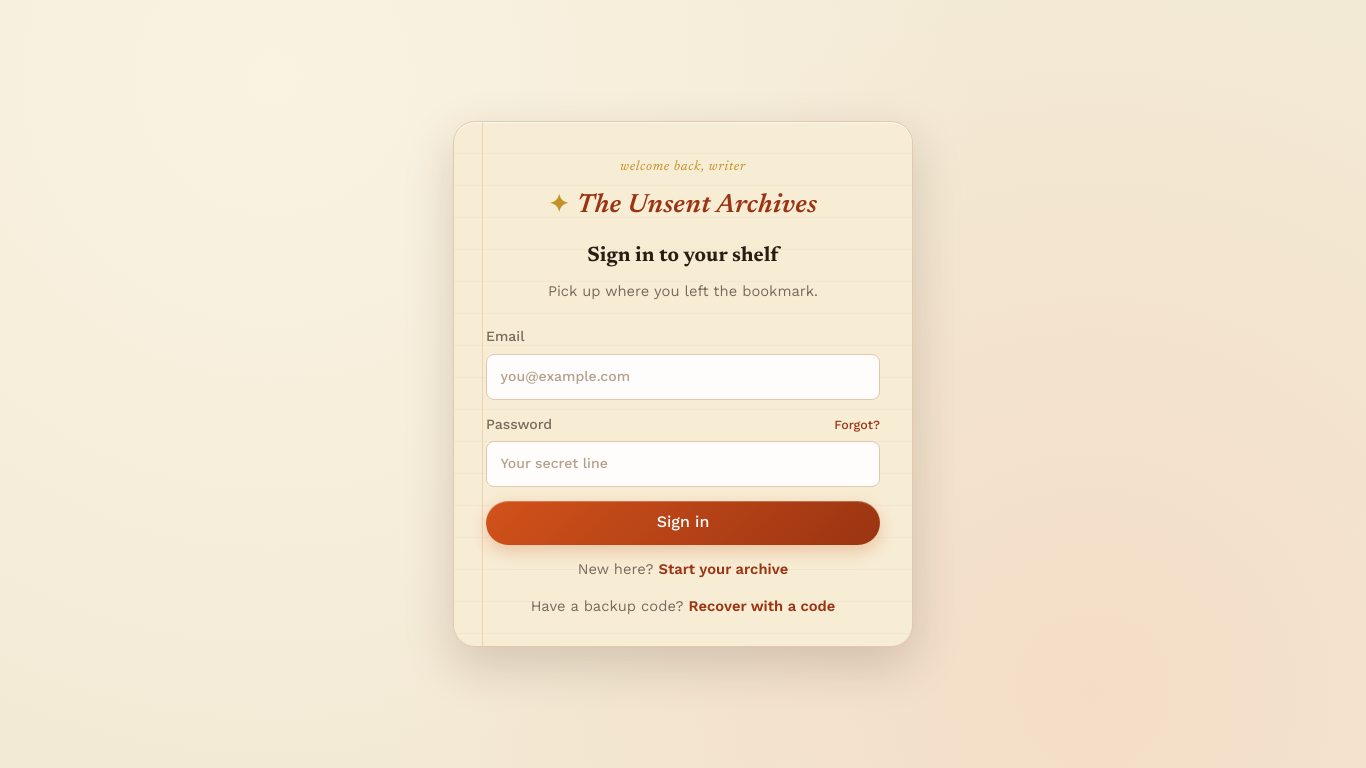
Test: Login page › falls back to a generic error when an HTTP failure carries no message
Type "me@example.com" into the field with placeholder "you@example.com" at point(683, 377), box x1=486 y1=354 x2=880 y2=400
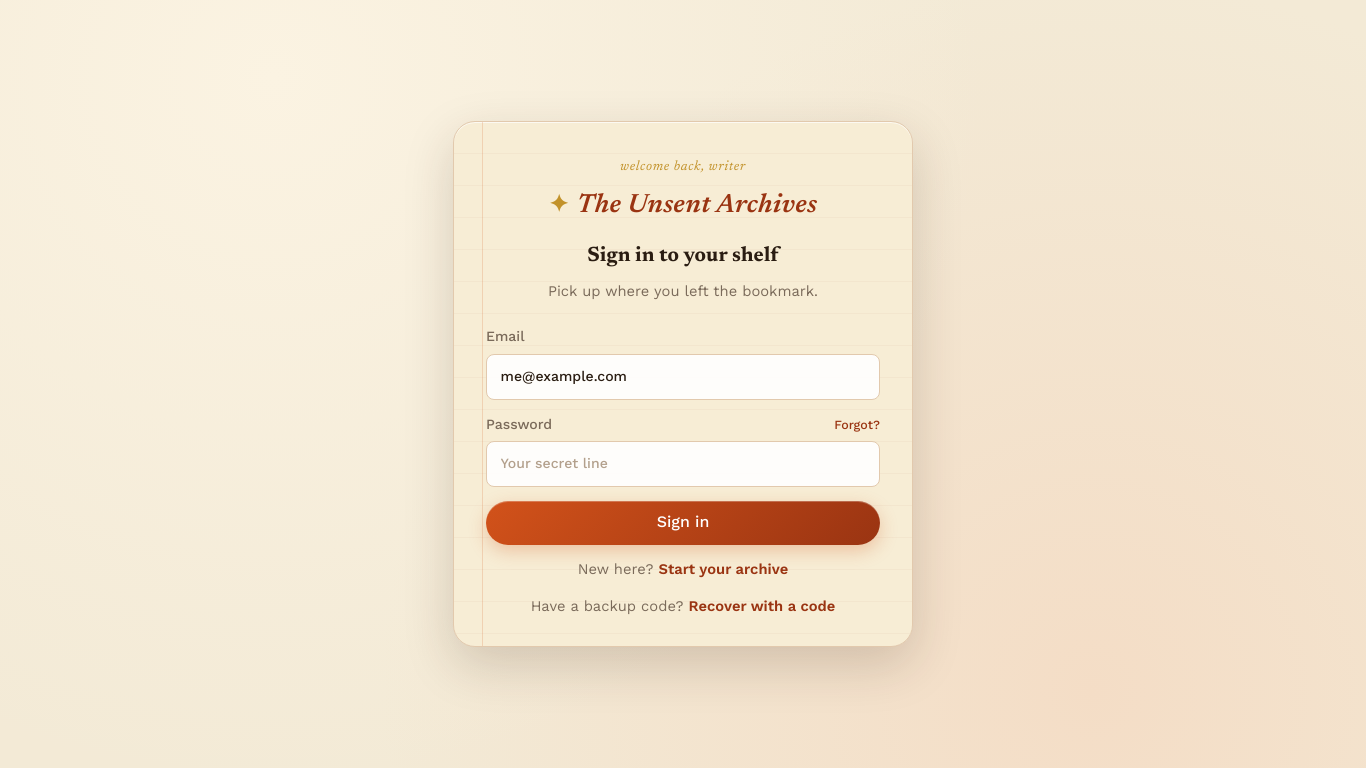
Type "hunter22" into the password field with placeholder "Your secret line" at point(683, 464), box x1=486 y1=441 x2=880 y2=487
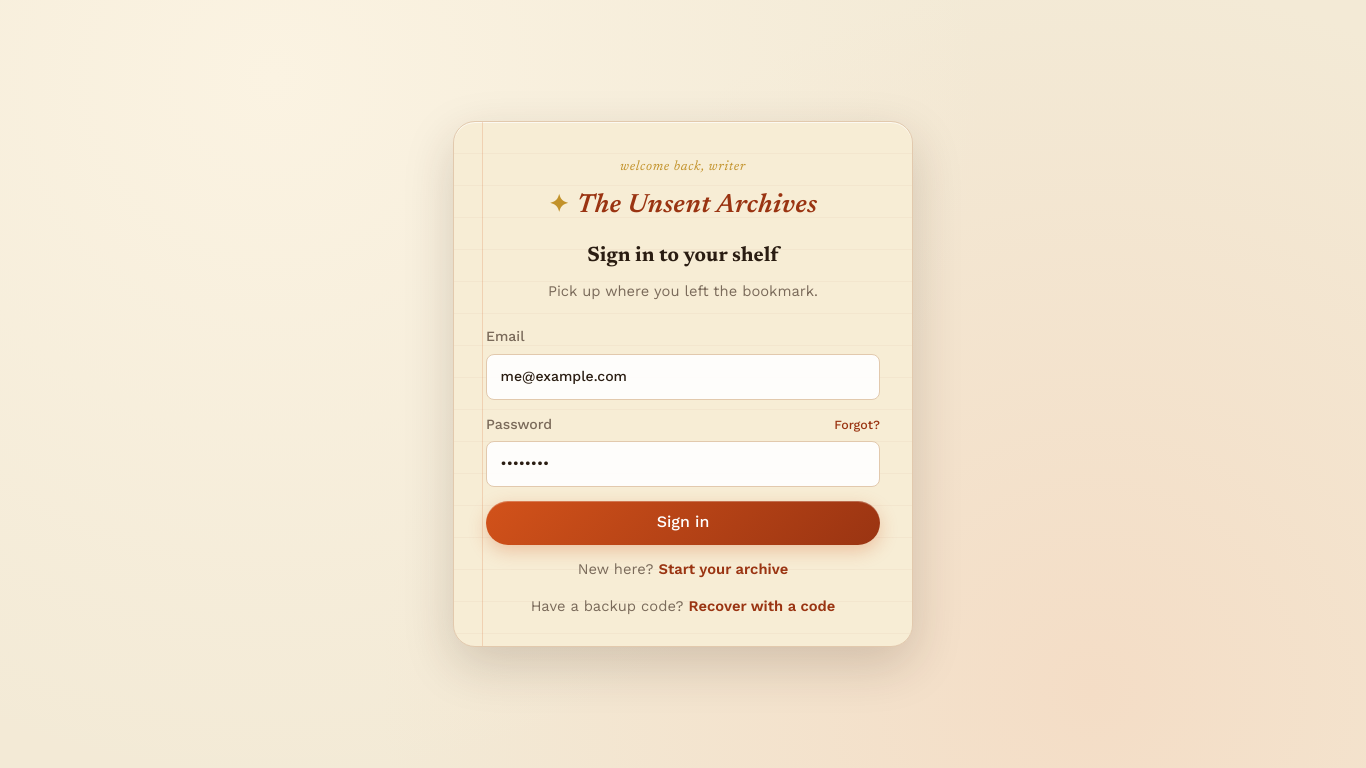
Click the button "Sign in" at point(683, 523), box x1=486 y1=501 x2=880 y2=545
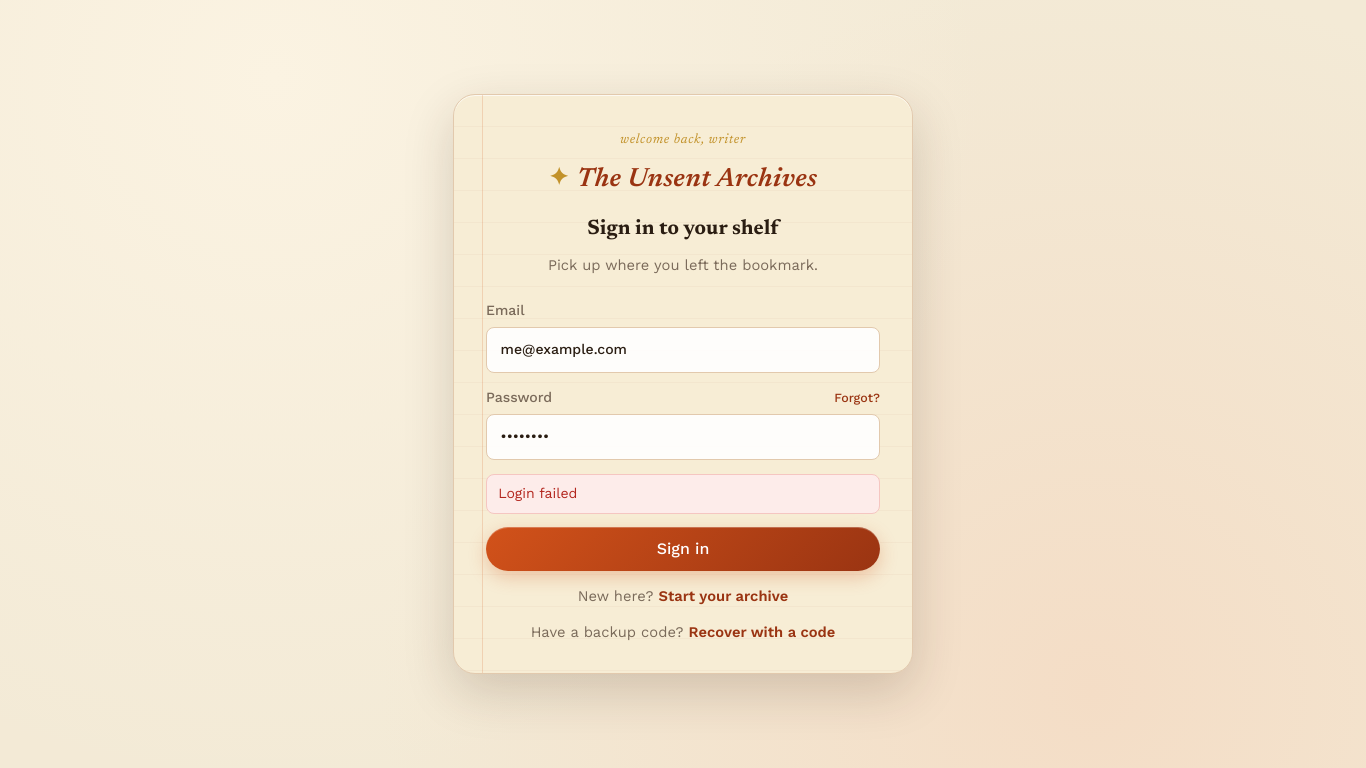
Result: the text "Login failed" is shown at x1=486 y1=474 x2=880 y2=514
